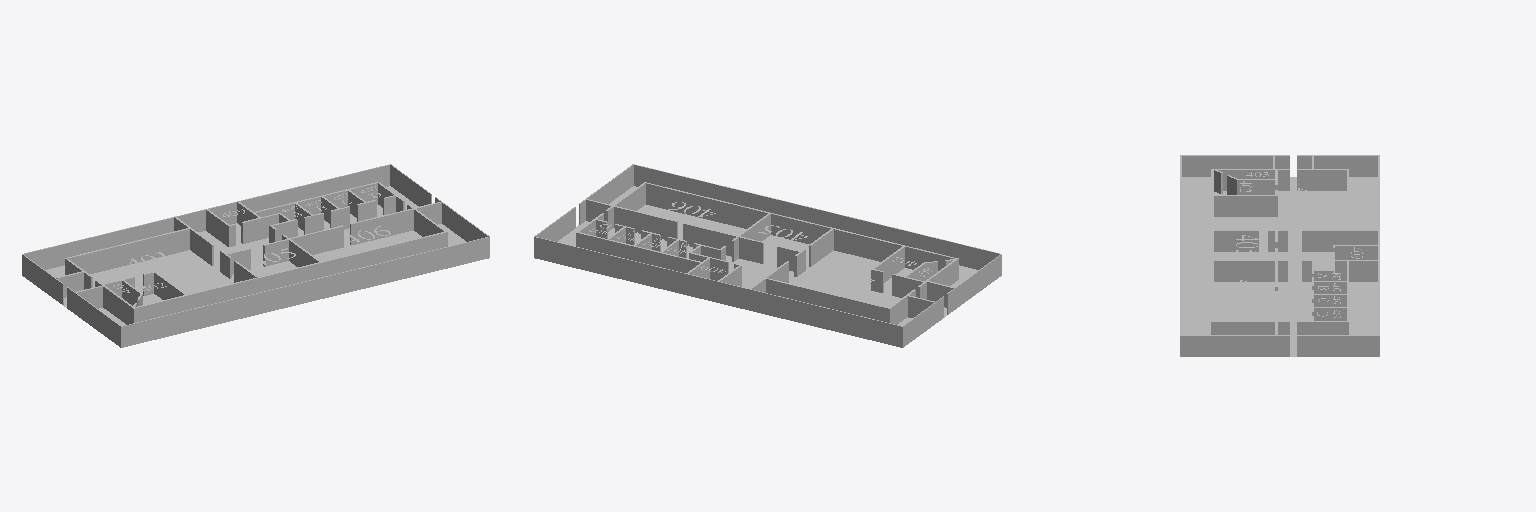
File: fey3.obj
The picture shows the model from 3 angles: view 1: azimuth 30°, elevation 25°; view 2: azimuth 150°, elevation 25°; view 3: azimuth 270°, elevation 25°; orthographic projection.
Parts seen in each view (by area): view 1: pCube1, polySurface1, pCube63, pCube24, pCube3, pCube2, pCube89, pCube69, pCube25, pCube4, pCube14, pCube39 (+7 smaller); view 2: polySurface1, pCube1, pCube63, pCube2, pCube3, pCube24, pCube25, pCube89, pCube69, pCube8, pCube4, pCube39 (+7 smaller); view 3: polySurface1, pCube39, pCube38, pCube4, pCube67, pCube72, pCube14, pCube9, pCube78, pCube77, pCube68, pCube27 (+4 smaller).
Part boxes in pixels (bbox=[...]): pCube1: bbox=[121, 237, 488, 347]; polySurface1: bbox=[46, 186, 465, 325]; pCube63: bbox=[133, 232, 445, 322]; pCube24: bbox=[65, 228, 189, 274]; pCube3: bbox=[24, 217, 173, 269]; pCube2: bbox=[239, 164, 390, 211]; pCube89: bbox=[350, 202, 441, 245]; pCube69: bbox=[263, 225, 343, 266]; pCube25: bbox=[252, 182, 377, 219]; pCube4: bbox=[67, 287, 121, 347]; pCube14: bbox=[22, 254, 63, 304]; pCube39: bbox=[435, 197, 489, 257]; polySurface1: bbox=[558, 186, 977, 325]; pCube1: bbox=[634, 164, 999, 269]; pCube63: bbox=[646, 183, 958, 279]; pCube2: bbox=[535, 237, 687, 295]; pCube3: bbox=[751, 289, 902, 347]; pCube24: bbox=[766, 278, 890, 322]; pCube25: bbox=[578, 232, 703, 277]; pCube89: bbox=[586, 199, 677, 240]; pCube69: bbox=[683, 223, 763, 263]; pCube8: bbox=[687, 274, 750, 310]; pCube4: bbox=[947, 254, 1001, 314]; pCube39: bbox=[579, 164, 633, 224]; polySurface1: bbox=[1182, 177, 1377, 356]; pCube39: bbox=[1180, 335, 1289, 356]; pCube38: bbox=[1297, 335, 1379, 356]; pCube4: bbox=[1182, 155, 1289, 176]; pCube67: bbox=[1212, 260, 1287, 281]; pCube72: bbox=[1214, 195, 1277, 216]; pCube14: bbox=[1297, 155, 1379, 176]; pCube9: bbox=[1302, 230, 1377, 251]; pCube78: bbox=[1297, 169, 1347, 190]; pCube77: bbox=[1211, 321, 1289, 334]; pCube68: bbox=[1211, 230, 1258, 251]; pCube27: bbox=[1335, 260, 1377, 281].
Size of the model in its own units: 3640 by 202 by 1700.